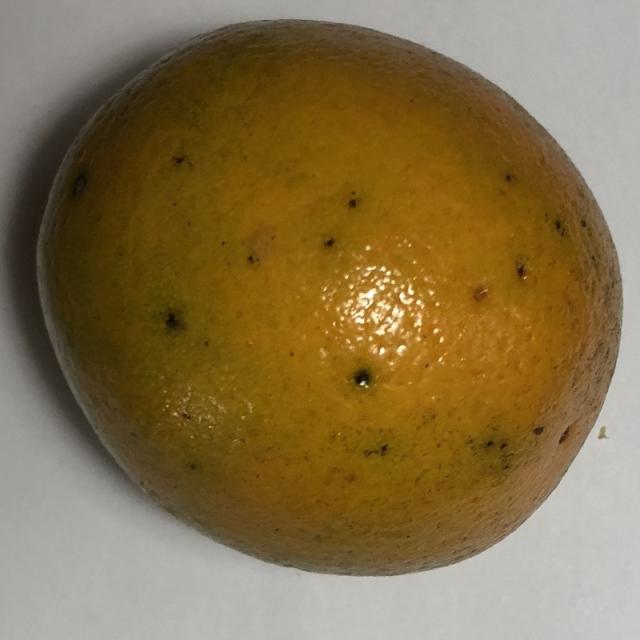blackspot: (32, 14, 627, 614)
